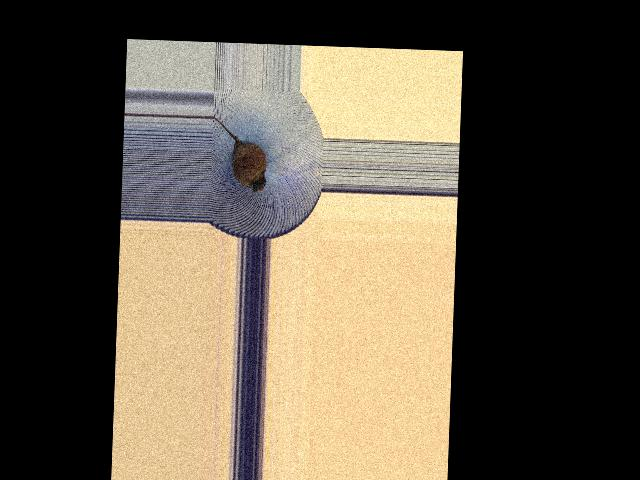beet: (209, 117, 267, 192)
